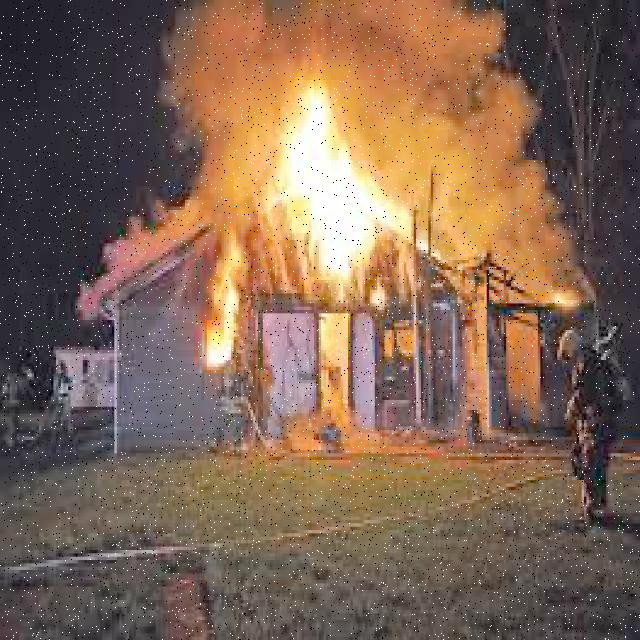fire: (263, 75, 407, 272), (202, 244, 246, 380)
